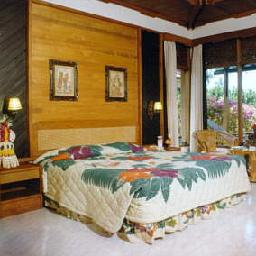Cama: (54, 147, 249, 236)
